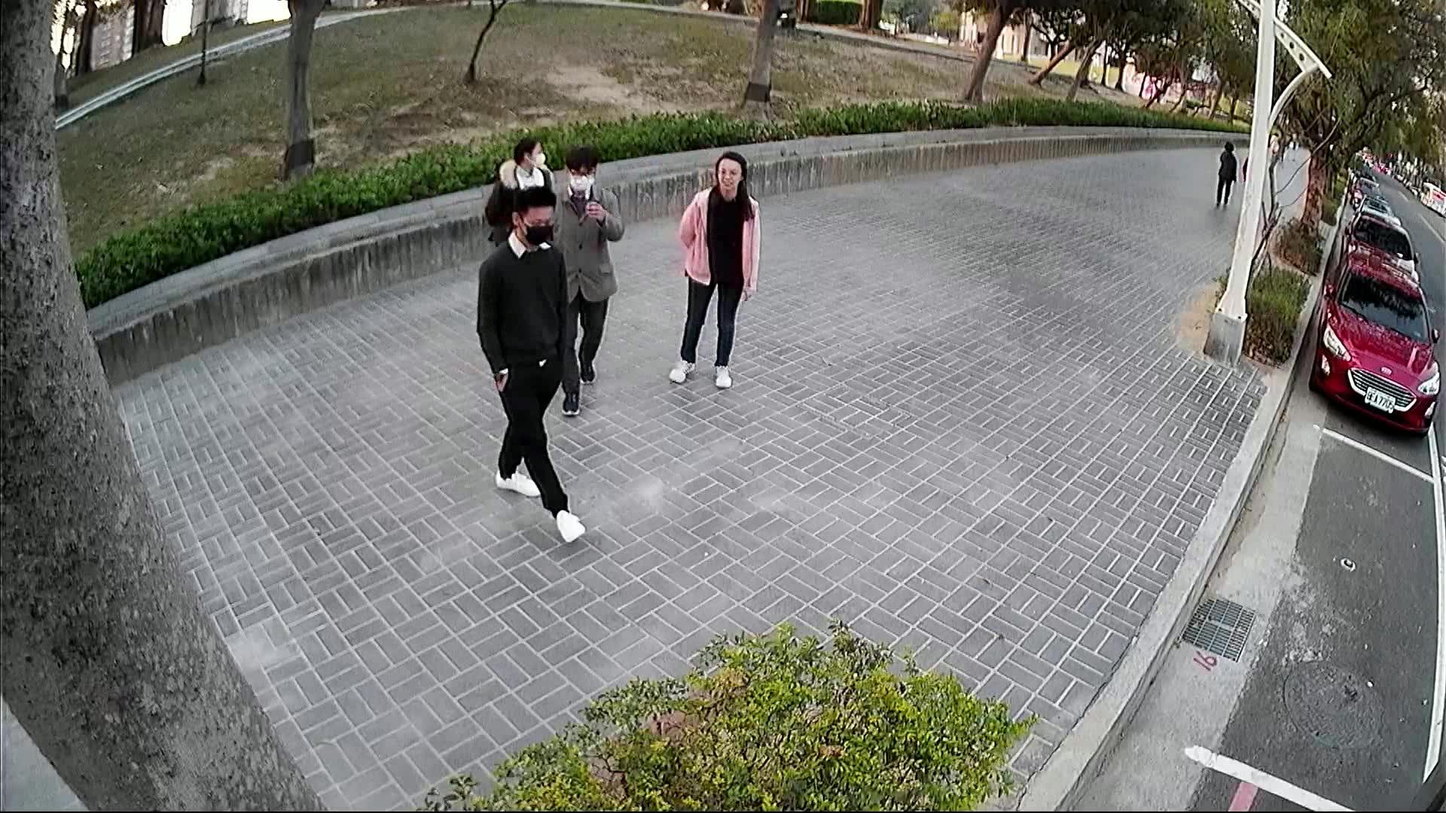person: (469, 179, 587, 547), (664, 142, 764, 394), (548, 145, 627, 419), (477, 132, 557, 244), (1209, 135, 1245, 212)
